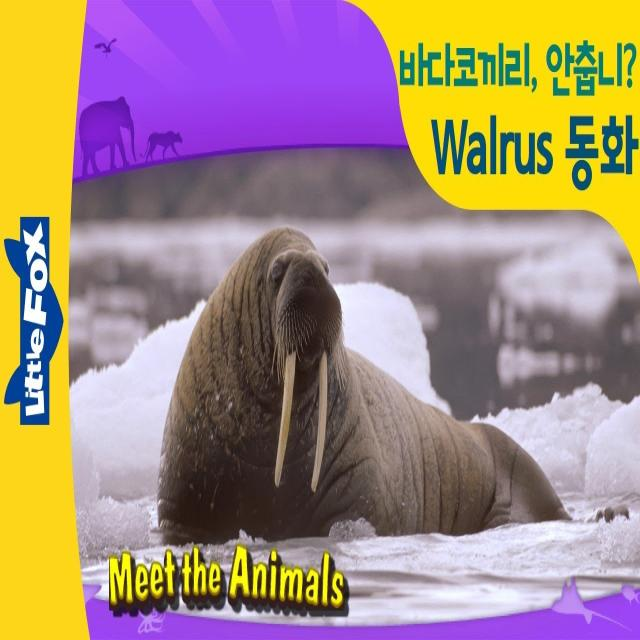walrus: (161, 203, 554, 566)
